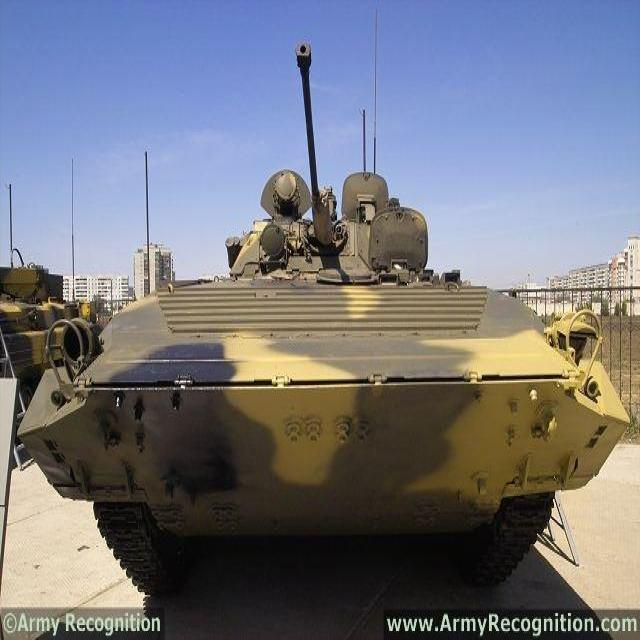Tanks: (67, 262, 612, 609)
